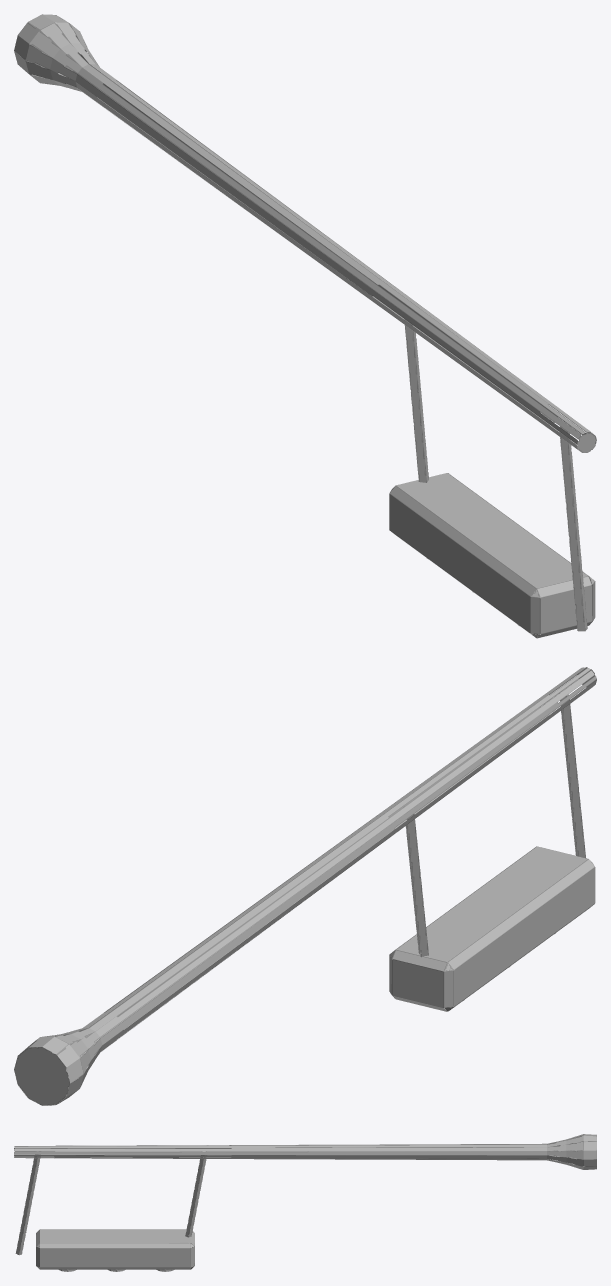
Rendered from pz_street_pole_13.obj.
3 renders of one model, top to bottom at view 1: azimuth 30°, elevation 25°; view 2: azimuth 150°, elevation 25°; view 3: azimuth 270°, elevation 25°, orthographic. The views are drawn at different scales.
Visible parts, largest first — view 1: pz_street_pole_13_|_tapered_native_street_pole, pz_street_pole_13_|_native_traffic_signal_housing, pz_street_pole_13_|_traffic_light_support_arm.001, pz_street_pole_13_|_traffic_light_support_arm; view 2: pz_street_pole_13_|_tapered_native_street_pole, pz_street_pole_13_|_native_traffic_signal_housing, pz_street_pole_13_|_traffic_light_support_arm.001, pz_street_pole_13_|_traffic_light_support_arm; view 3: pz_street_pole_13_|_tapered_native_street_pole, pz_street_pole_13_|_native_traffic_signal_housing, pz_street_pole_13_|_traffic_light_support_arm.001, pz_street_pole_13_|_traffic_light_support_arm.
Part boxes in pixels (box(x1,y1,x2,y2)): pz_street_pole_13_|_tapered_native_street_pole: box(14, 14, 596, 452); pz_street_pole_13_|_native_traffic_signal_housing: box(389, 473, 595, 638); pz_street_pole_13_|_traffic_light_support_arm.001: box(559, 426, 587, 631); pz_street_pole_13_|_traffic_light_support_arm: box(404, 319, 428, 482); pz_street_pole_13_|_tapered_native_street_pole: box(14, 667, 596, 1105); pz_street_pole_13_|_native_traffic_signal_housing: box(389, 846, 595, 1011); pz_street_pole_13_|_traffic_light_support_arm.001: box(559, 693, 585, 857); pz_street_pole_13_|_traffic_light_support_arm: box(405, 814, 428, 957); pz_street_pole_13_|_tapered_native_street_pole: box(14, 1134, 596, 1169); pz_street_pole_13_|_native_traffic_signal_housing: box(36, 1229, 194, 1269); pz_street_pole_13_|_traffic_light_support_arm.001: box(15, 1151, 40, 1255); pz_street_pole_13_|_traffic_light_support_arm: box(185, 1151, 206, 1237).
Bounding box in the file's own units: 0.164 × 0.593 × 2.39.
1 material, 1 textured.
